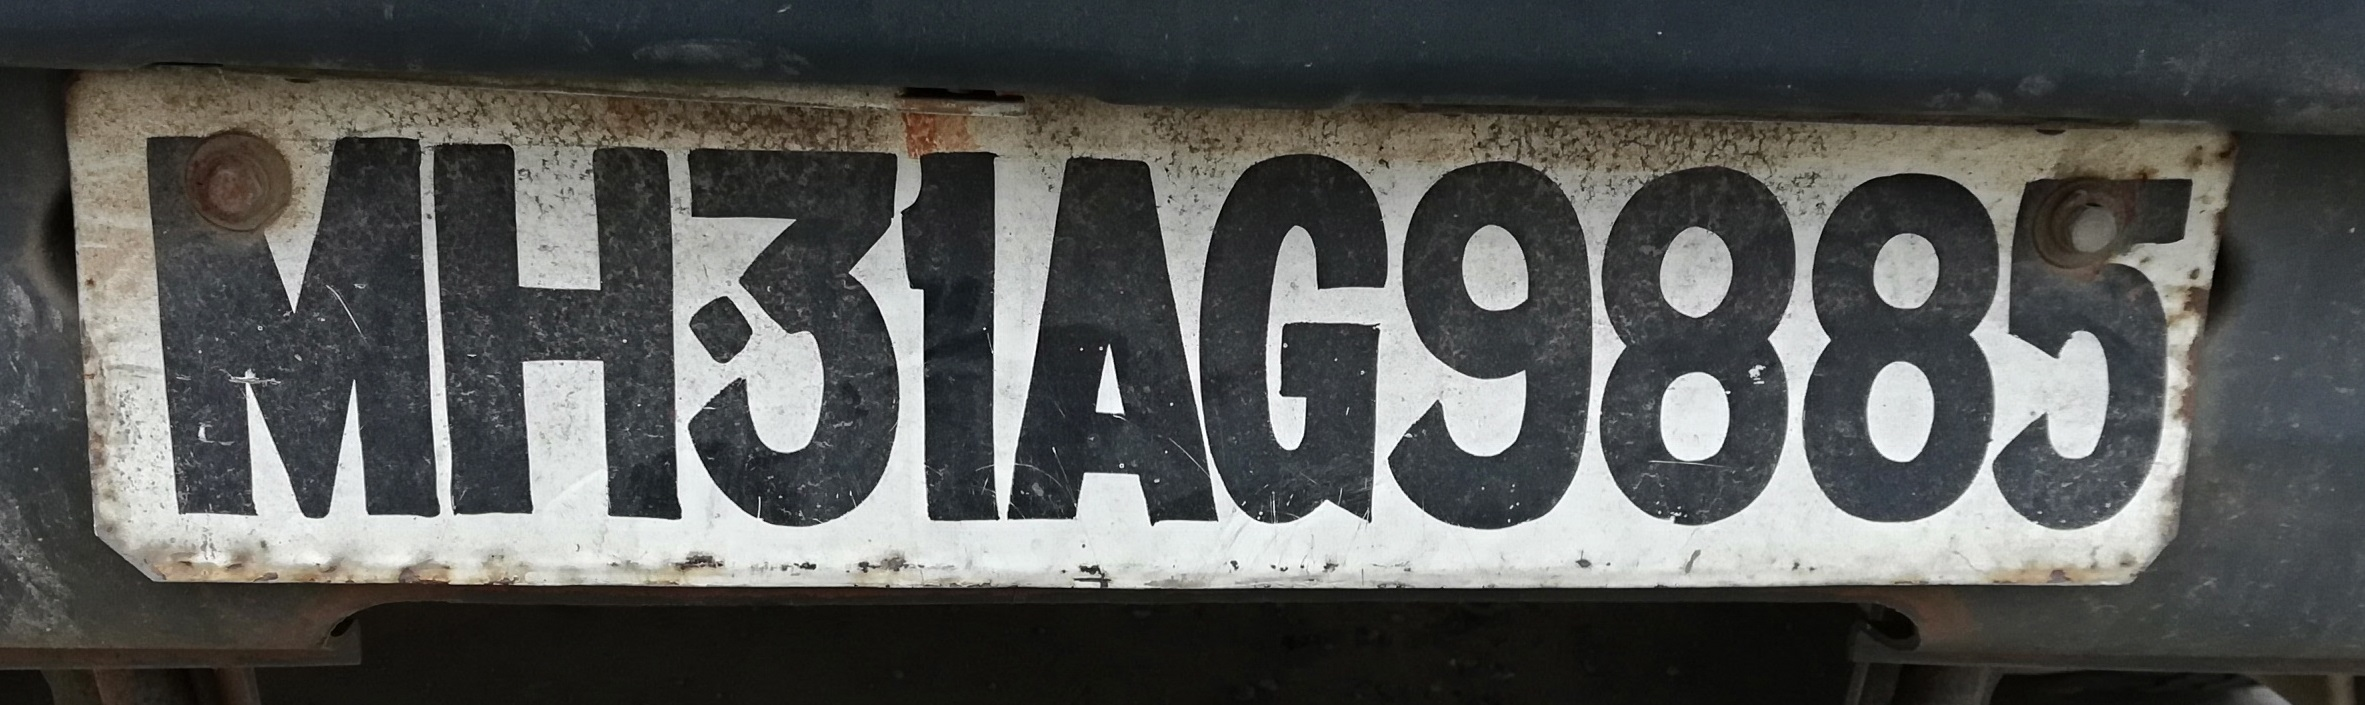numberplate: (56, 59, 2219, 606)
